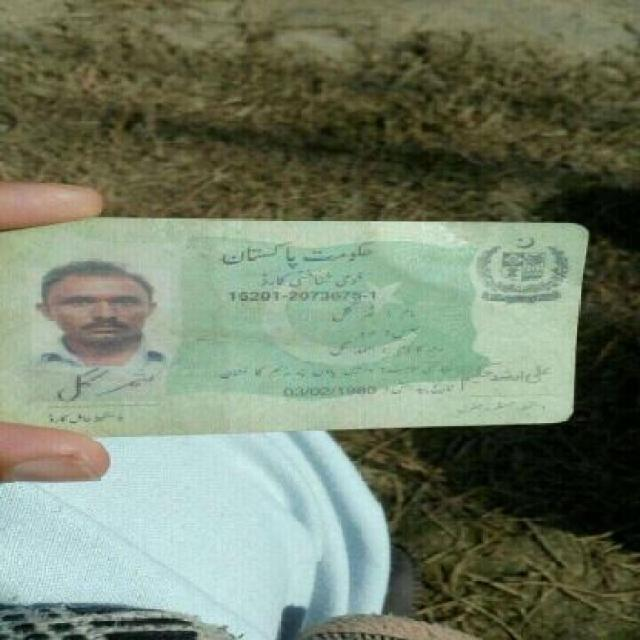Front: (9, 205, 605, 437)
